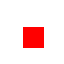square: (23, 27, 43, 47)
